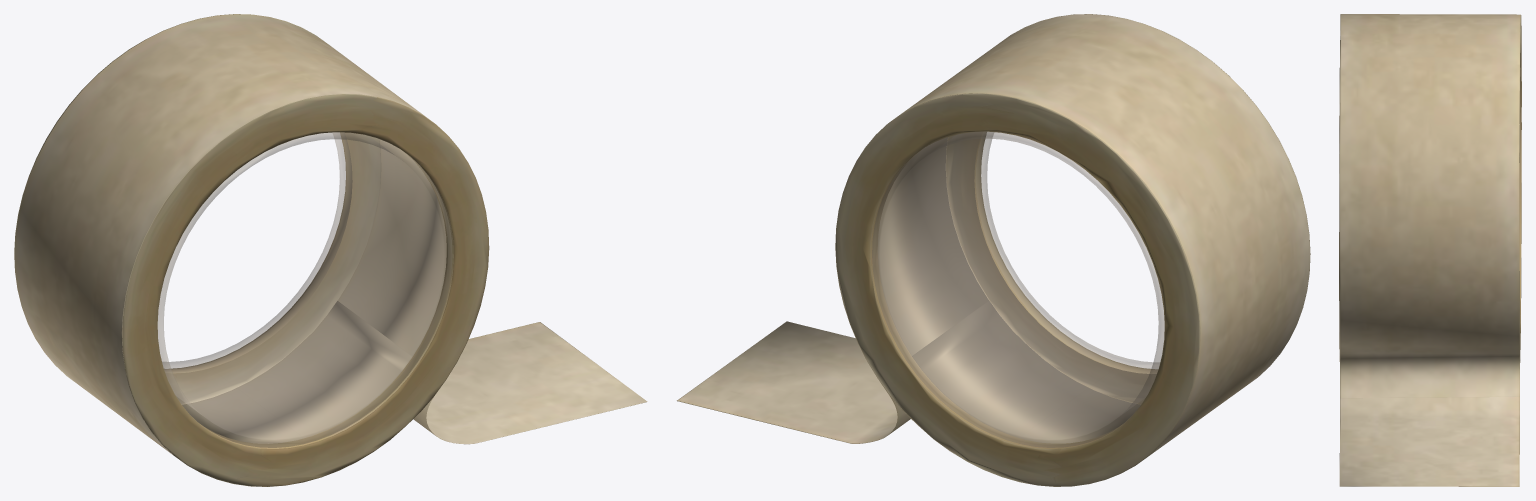
The model's file is tape.glb.
The picture shows the model from 3 angles, left to right: view 1: azimuth 30°, elevation 25°; view 2: azimuth 150°, elevation 25°; view 3: azimuth 270°, elevation 25°; orthographic projection. The views are drawn at different scales.
Parts seen in each view (by area): view 1: Packing_Tape_Clear_no_Dispenser_01; view 2: Packing_Tape_Clear_no_Dispenser_01; view 3: Packing_Tape_Clear_no_Dispenser_01.
Boxes of the visible parts, x1=… form: Packing_Tape_Clear_no_Dispenser_01: x1=14, y1=14, x2=647, y2=486; Packing_Tape_Clear_no_Dispenser_01: x1=677, y1=14, x2=1310, y2=486; Packing_Tape_Clear_no_Dispenser_01: x1=1339, y1=14, x2=1521, y2=486.
Size of the model in its own units: 0.1717 by 0.1204 by 0.0626.
2 materials, 2 textured.
